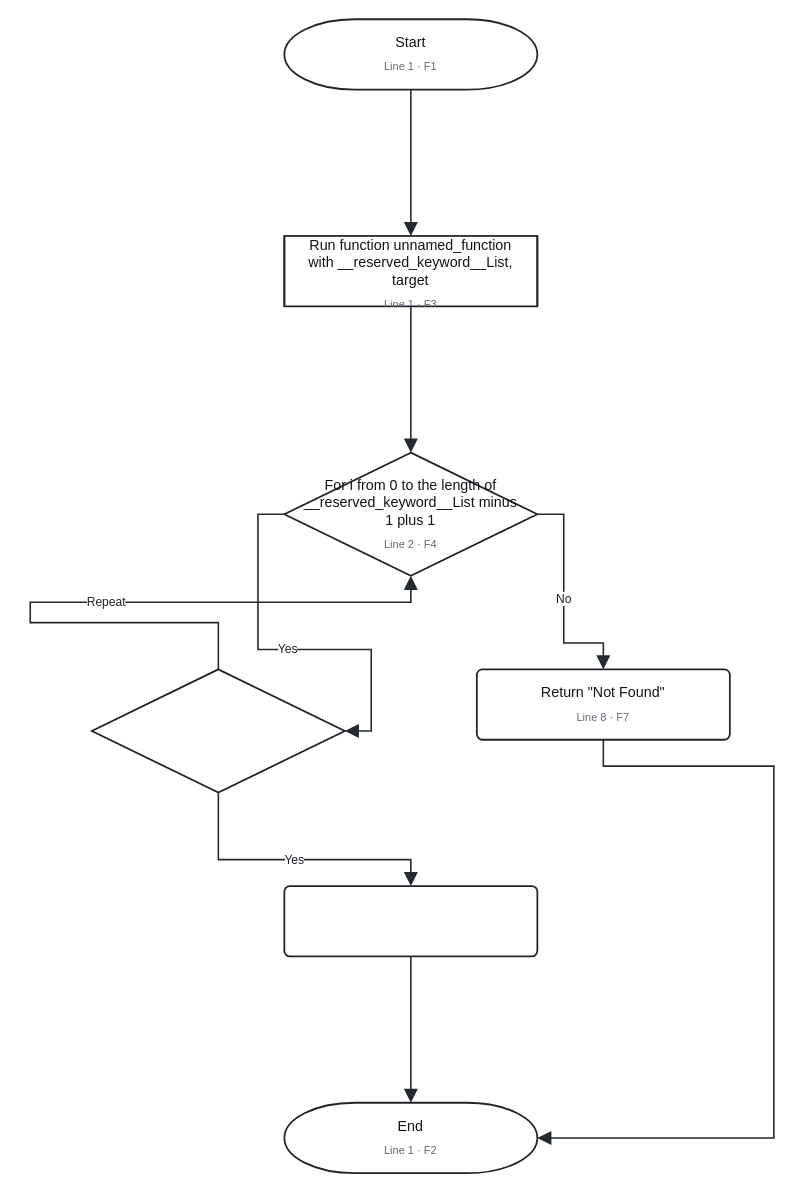
The diagram is 806 pixels wide and 1194 high, and some of its shapes have lost their labels. Here are the shapes that lost their labels. From the top down, the centre of each, then its label:
At [217,730]: "Item i of __reserved_keyword__List is equal to target? Line 3 · F5".
At [410,921]: "Return i Line 4 · F6".
